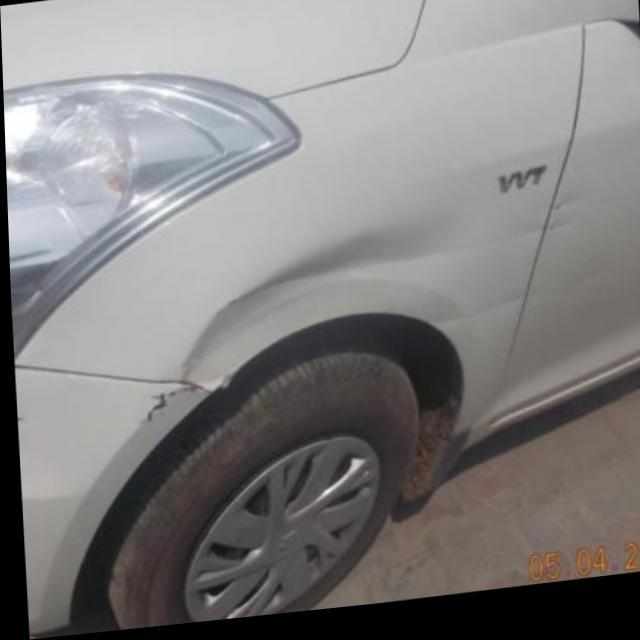crack: (128, 389, 202, 435)
dent: (182, 241, 446, 388)
